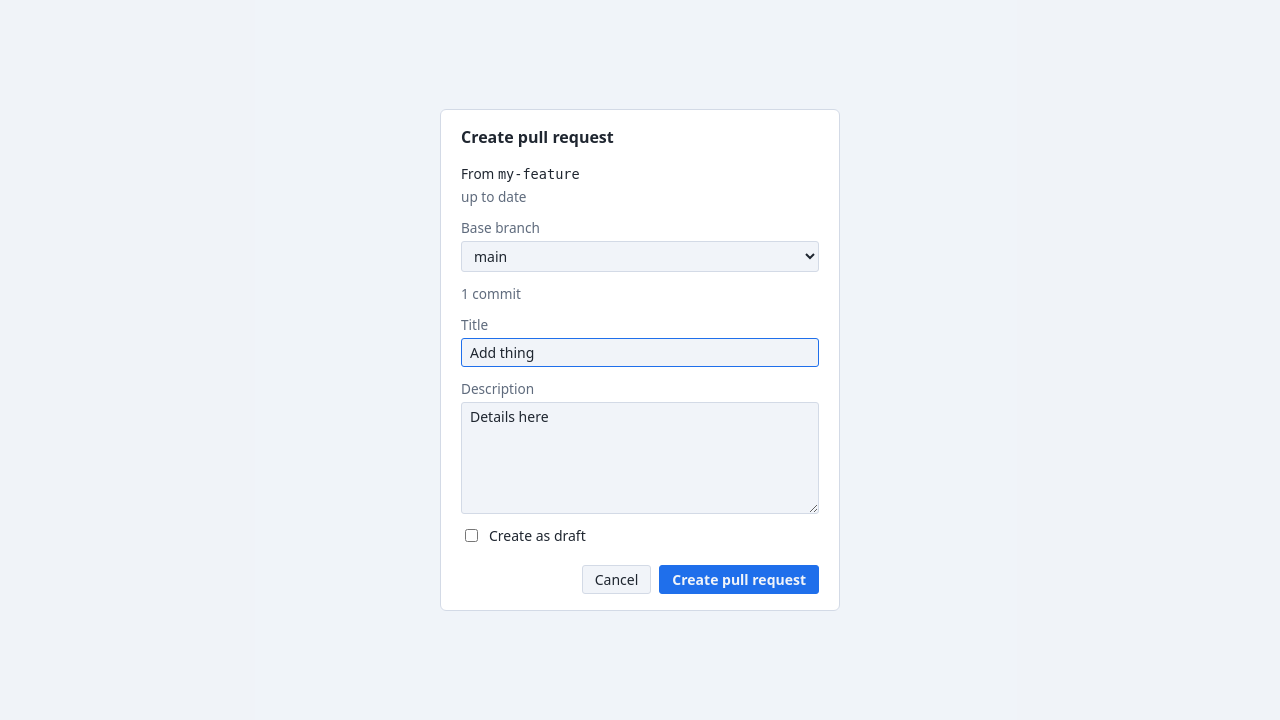
CreatePullDialog › shows the API error inline
Click the button "Create pull request": {"x": 739, "y": 580} [659,565,819,594]
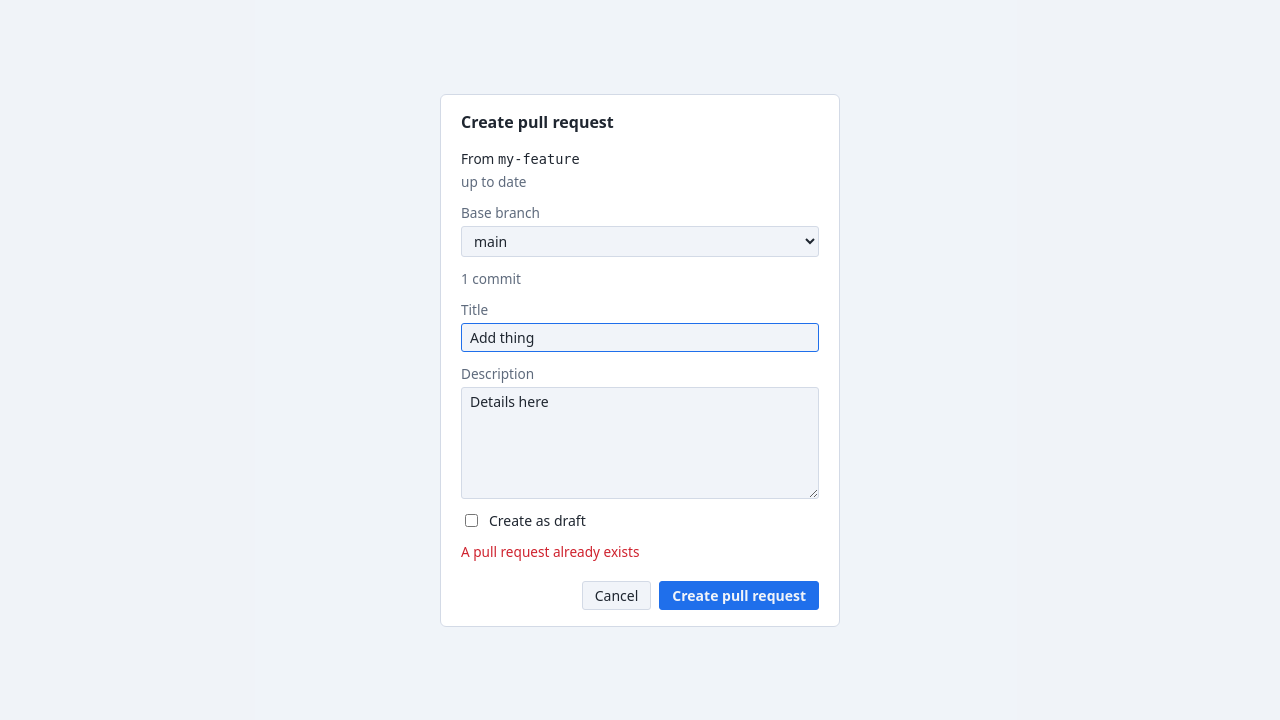
Check: the text "A pull request already exists" is shown, box [461,542,640,560]
